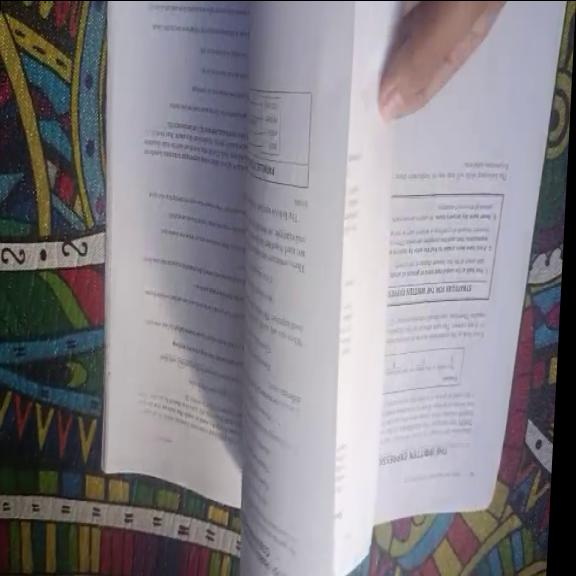Kertas: (224, 0, 394, 576), (375, 1, 563, 520), (241, 1, 394, 575), (103, 2, 248, 504)
